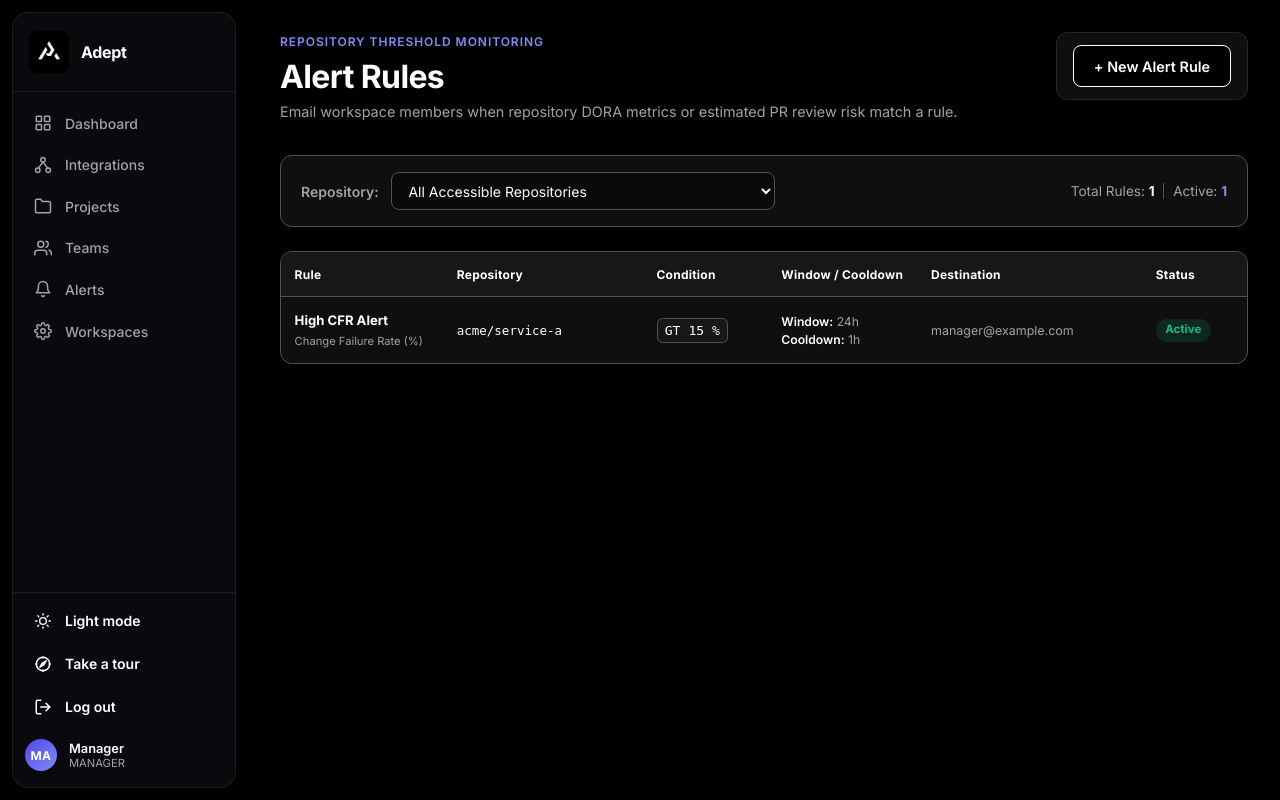
Test case: AlertsPage › validates metric-specific thresholds inside the create dialog
Click the button "+ New Alert Rule": [1152, 66] box [1073,45,1231,87]
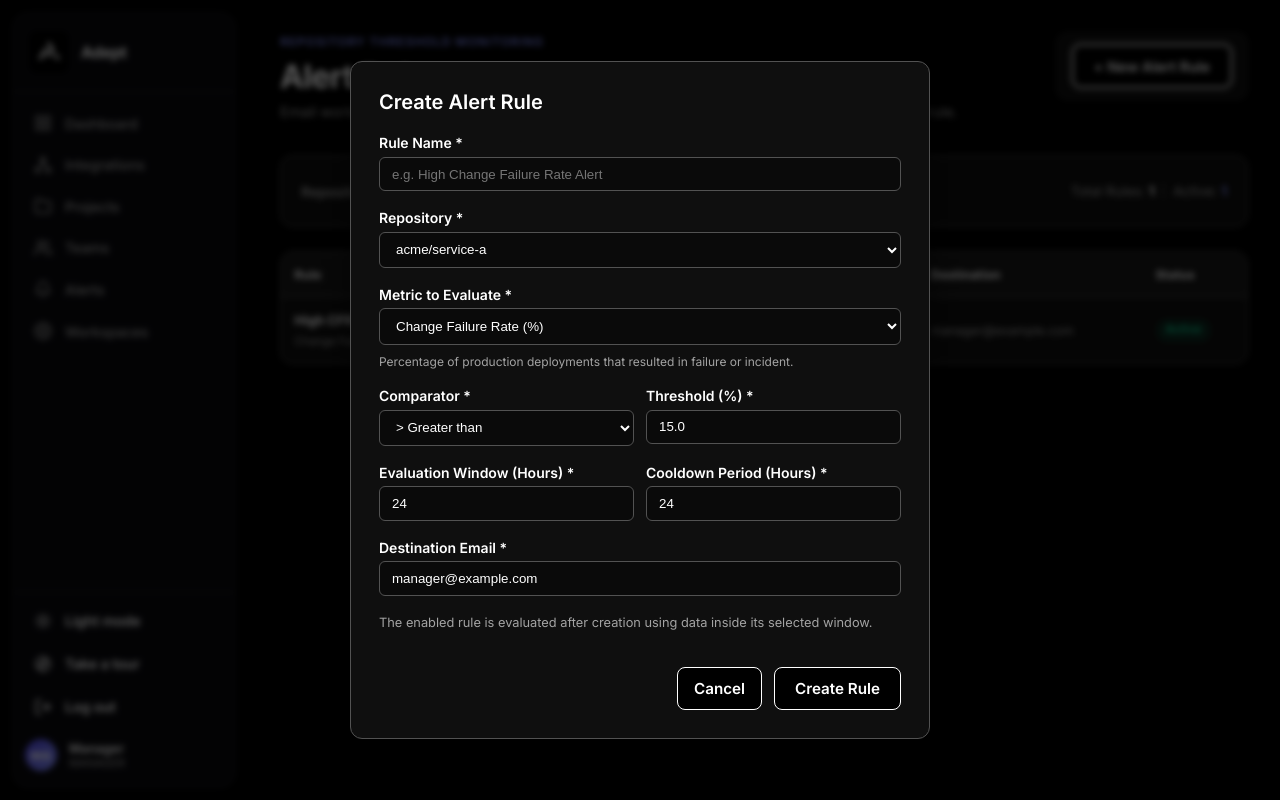
In the field labelled "Rule Name *": [640, 174] box [379,157,901,191], type "Invalid risk threshold"
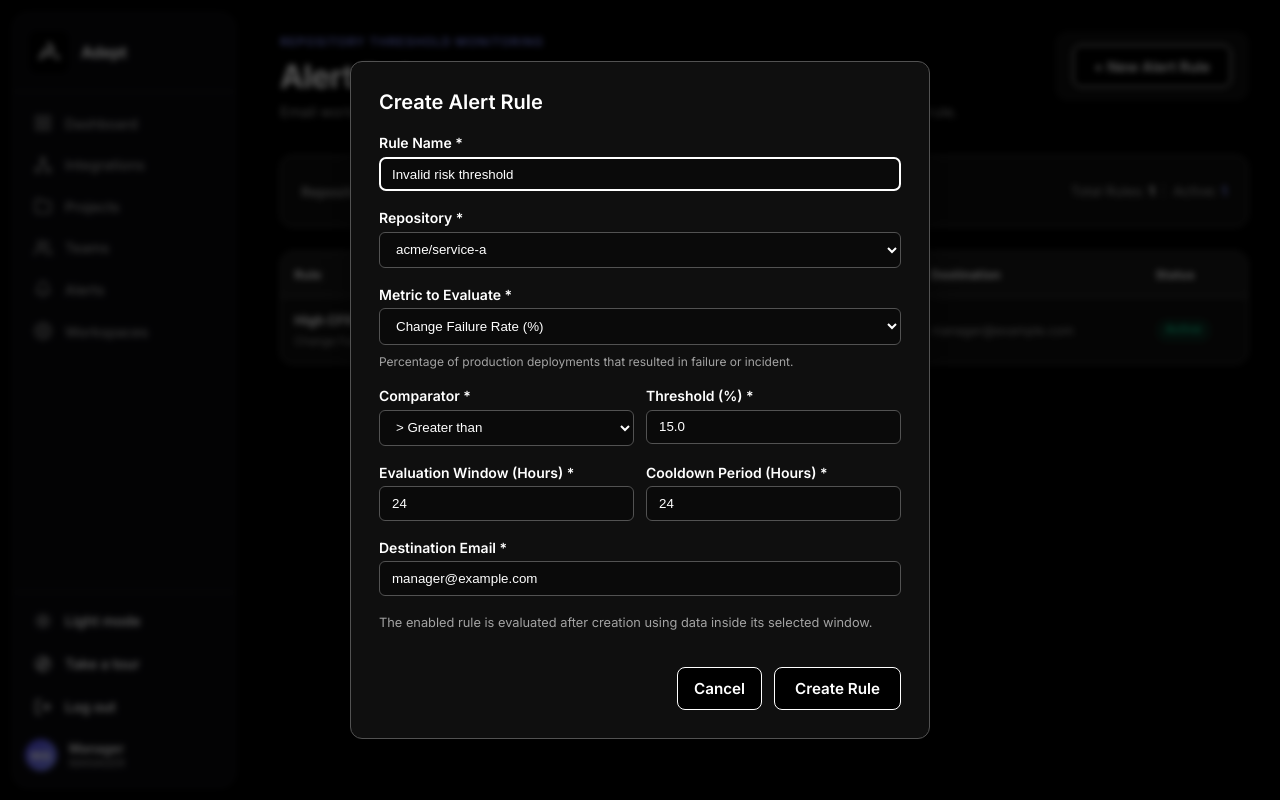
Select "PR Estimated Review Risk (%)" in the dropdown labelled "Metric to Evaluate *": [640, 327] box [379,308,901,345]
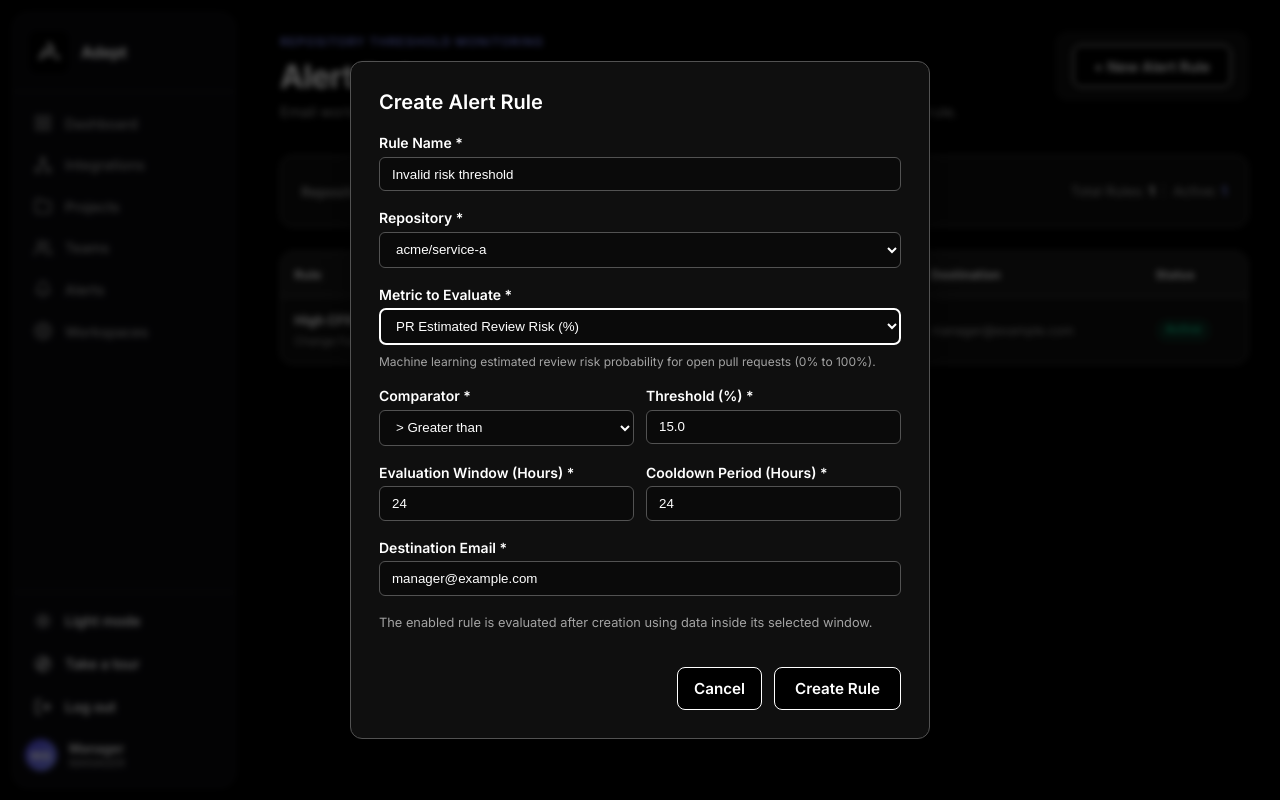
Replace the text in the number field labelled "Threshold (%) *" with "150": [774, 427] box [646,410,901,444]
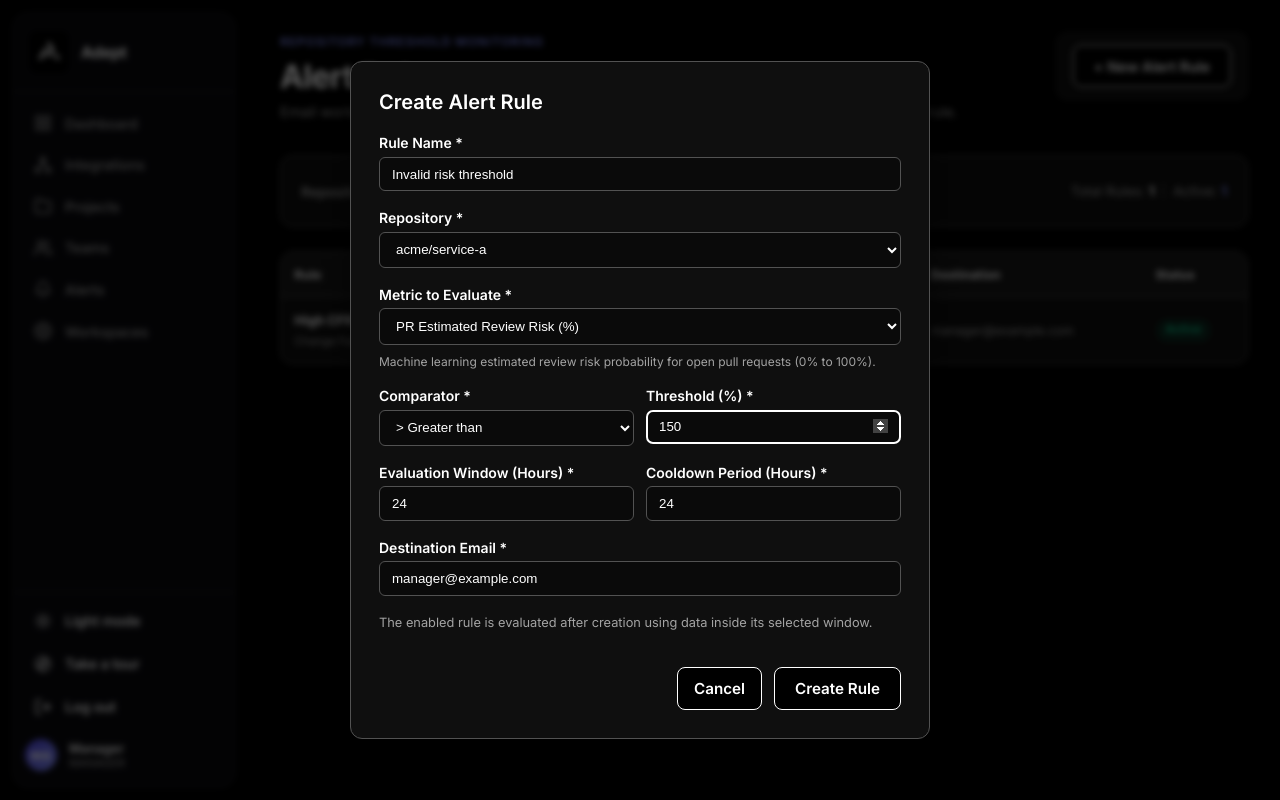
Click the button "Create Rule": [838, 689] box [774,668,901,710]
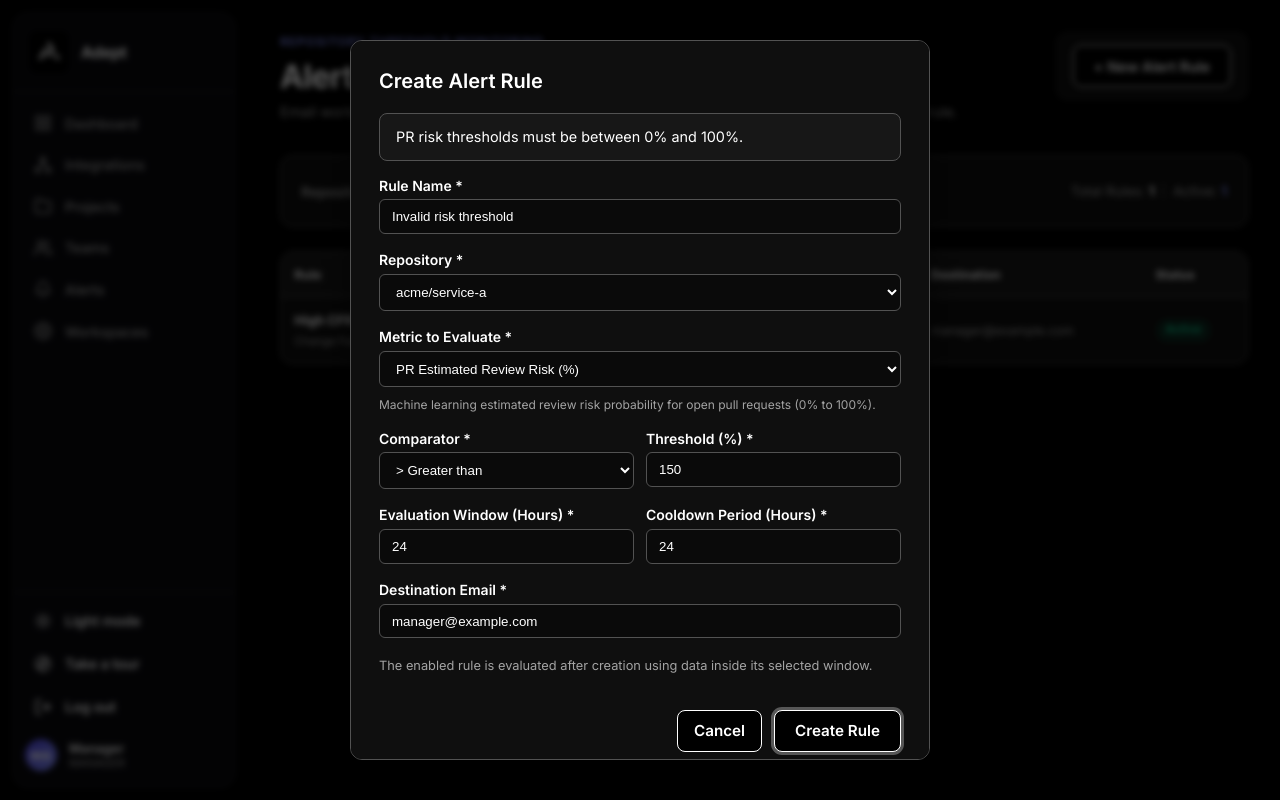
Now the text "PR risk thresholds must be between 0% and 100%." is shown, box [379,113,901,161]
